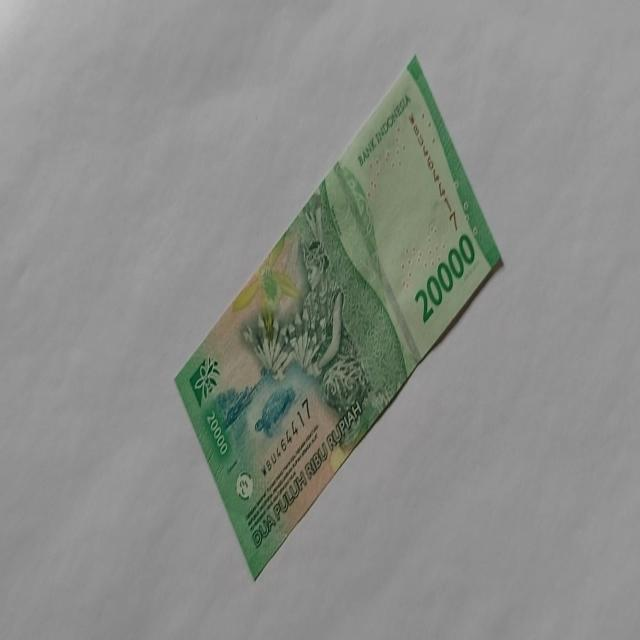dua puluh ribu rupiah: (172, 52, 504, 580), (412, 232, 476, 324)
